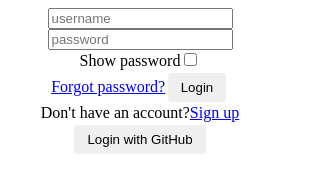
it: Unit testing Login component › Should show an error when a login fails
This screenshot has width=320, height=189.
Check: the text "Error: Incorrect username or password" is not shown
Check: the password field with placeholder "password" is empty, box [48, 29, 232, 50]
Type "usernameTest" into the field with placeholder "username" at (140, 18), box [48, 8, 232, 29]
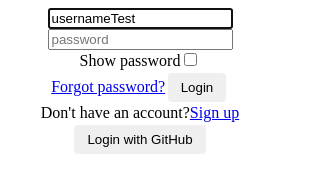
Type "passwordTest" into the password field with placeholder "password" at (140, 40), box [48, 29, 232, 50]
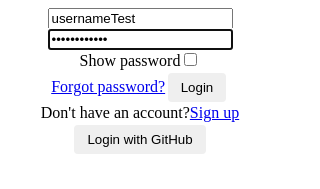
Click the button "Login" at (197, 87), box [168, 72, 226, 102]
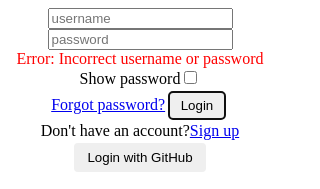
Check: the field with placeholder "username" is empty, box [48, 8, 232, 29]
Check: the password field with placeholder "password" is empty, box [48, 29, 232, 50]
Check: the text "Error: Incorrect username or password" is shown, box [16, 50, 264, 68]
